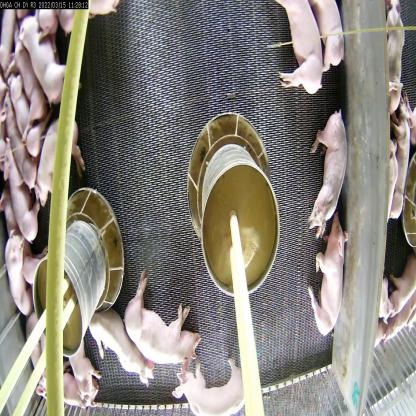Pig: (121, 271, 202, 369), (260, 0, 324, 94), (17, 10, 67, 122), (304, 225, 347, 343), (176, 349, 249, 415), (91, 313, 152, 387), (35, 110, 80, 207), (316, 104, 346, 244), (0, 144, 44, 236), (7, 82, 45, 158), (319, 0, 348, 75), (69, 342, 98, 412), (3, 230, 28, 310)
